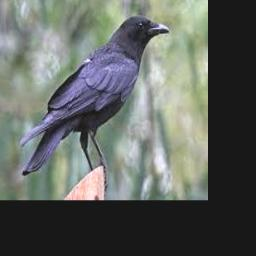Crow: (18, 15, 169, 191)
